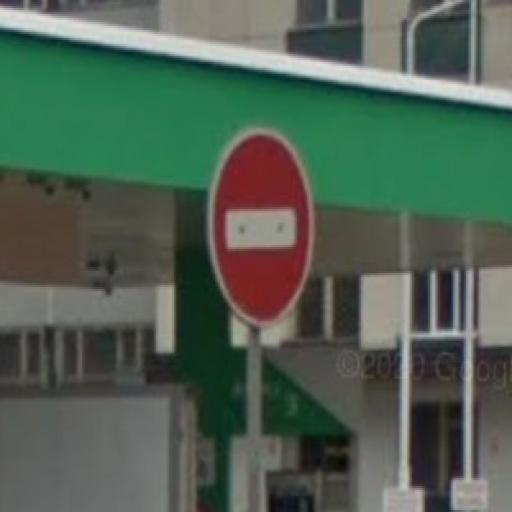traffic_sign: (208, 131, 316, 330)
